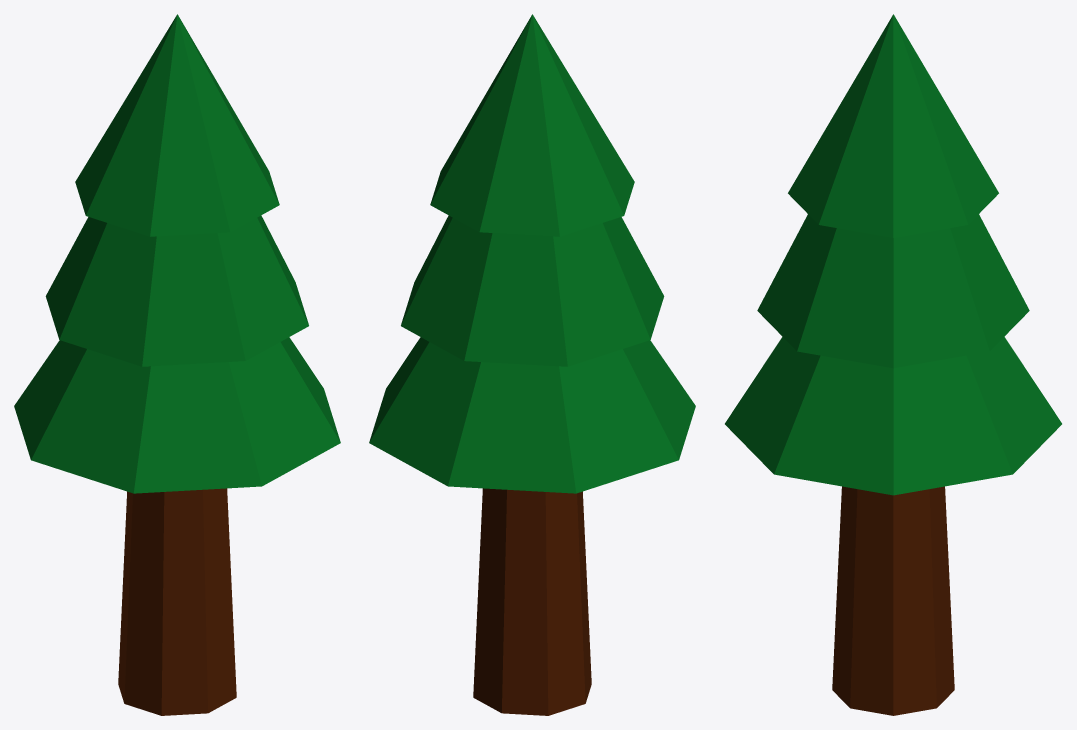
The model's file is spruce tree.glb.
3 views of the same model, side by side, from view 1: azimuth 30°, elevation 25°; view 2: azimuth 150°, elevation 25°; view 3: azimuth 270°, elevation 25° (orthographic).
Visible parts, largest first — view 1: Cylinder, Cylinder.001; view 2: Cylinder, Cylinder.001; view 3: Cylinder, Cylinder.001.
Part boxes in pixels (box(x1,y1,x2,y2)): Cylinder: box(14, 14, 340, 493); Cylinder.001: box(118, 488, 236, 715); Cylinder: box(369, 14, 695, 493); Cylinder.001: box(473, 488, 591, 715); Cylinder: box(725, 14, 1061, 495); Cylinder.001: box(832, 486, 954, 715).
Bounding box in the file's own units: 5.51 × 12.17 × 5.51.
